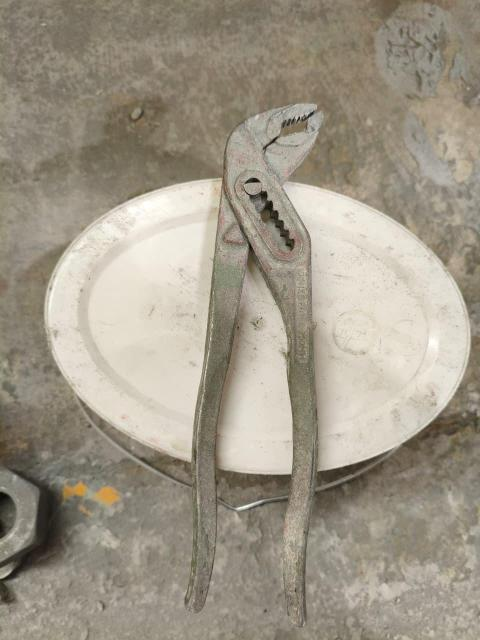Metal: (182, 102, 328, 618), (0, 463, 62, 587)
